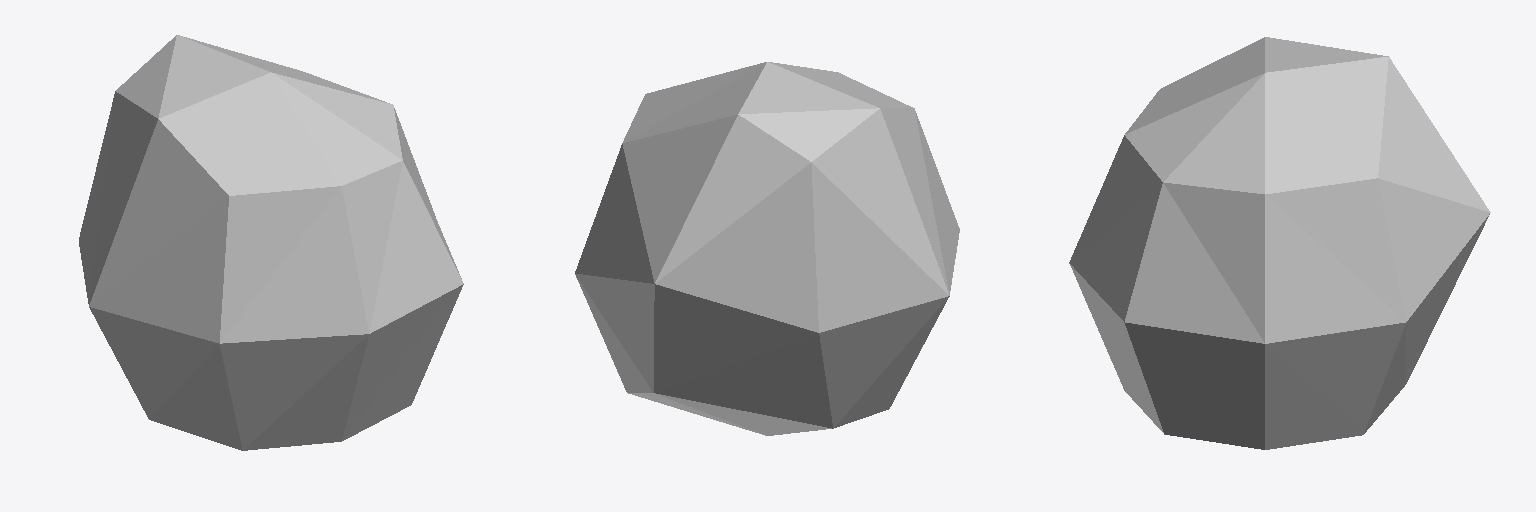
File: Astro3.obj
3 renders of one model, left to right at view 1: azimuth 30°, elevation 25°; view 2: azimuth 150°, elevation 25°; view 3: azimuth 270°, elevation 25°, orthographic.
Parts seen in each view (by area): view 1: Cube; view 2: Cube; view 3: Cube.
Boxes of the visible parts, box(x1,y1,x2,y2) form: Cube: box(79, 35, 463, 450); Cube: box(575, 62, 959, 435); Cube: box(1069, 37, 1490, 449).
Bounding box in the file's own units: 2.86 × 2.93 × 2.99.